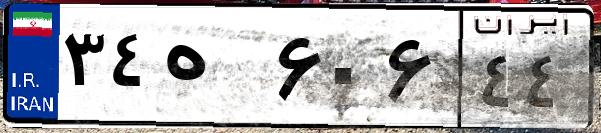0: (330, 28, 385, 110)
3: (57, 26, 110, 100)
4: (475, 38, 525, 113), (525, 38, 570, 115), (110, 28, 158, 98)
6: (270, 28, 330, 110), (385, 28, 445, 110)
ه: (158, 20, 270, 120)
